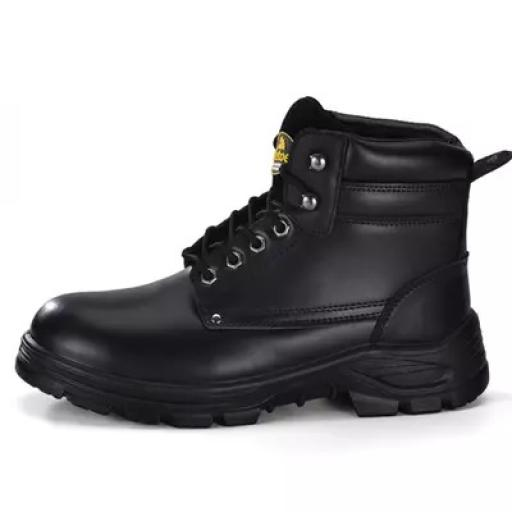safety_boots: (12, 95, 501, 428)
